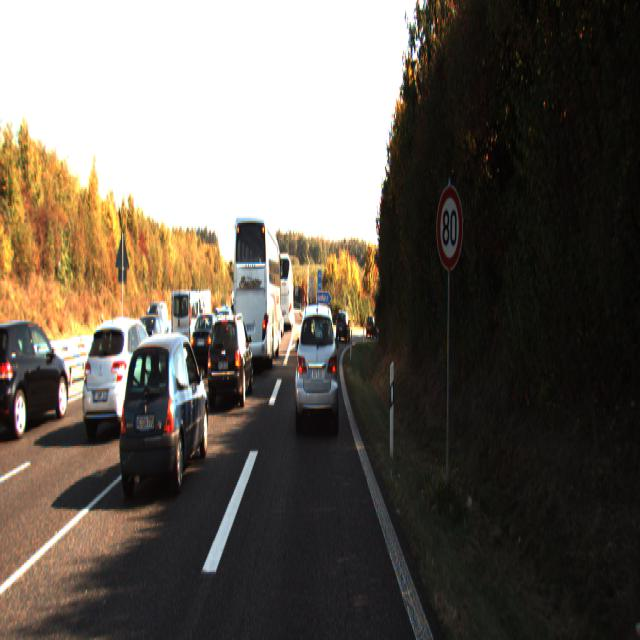Car: (115, 327, 210, 502), (80, 313, 162, 443), (0, 316, 72, 442), (232, 213, 282, 374), (294, 300, 339, 436), (206, 310, 254, 408), (132, 311, 174, 374), (170, 288, 203, 356), (277, 255, 295, 334), (335, 312, 351, 342)
